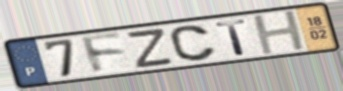7: (42, 37, 78, 79)
C: (167, 24, 219, 63)
F: (78, 31, 129, 76)
H: (250, 9, 310, 57)
T: (213, 17, 250, 57)
Z: (126, 26, 176, 70)
